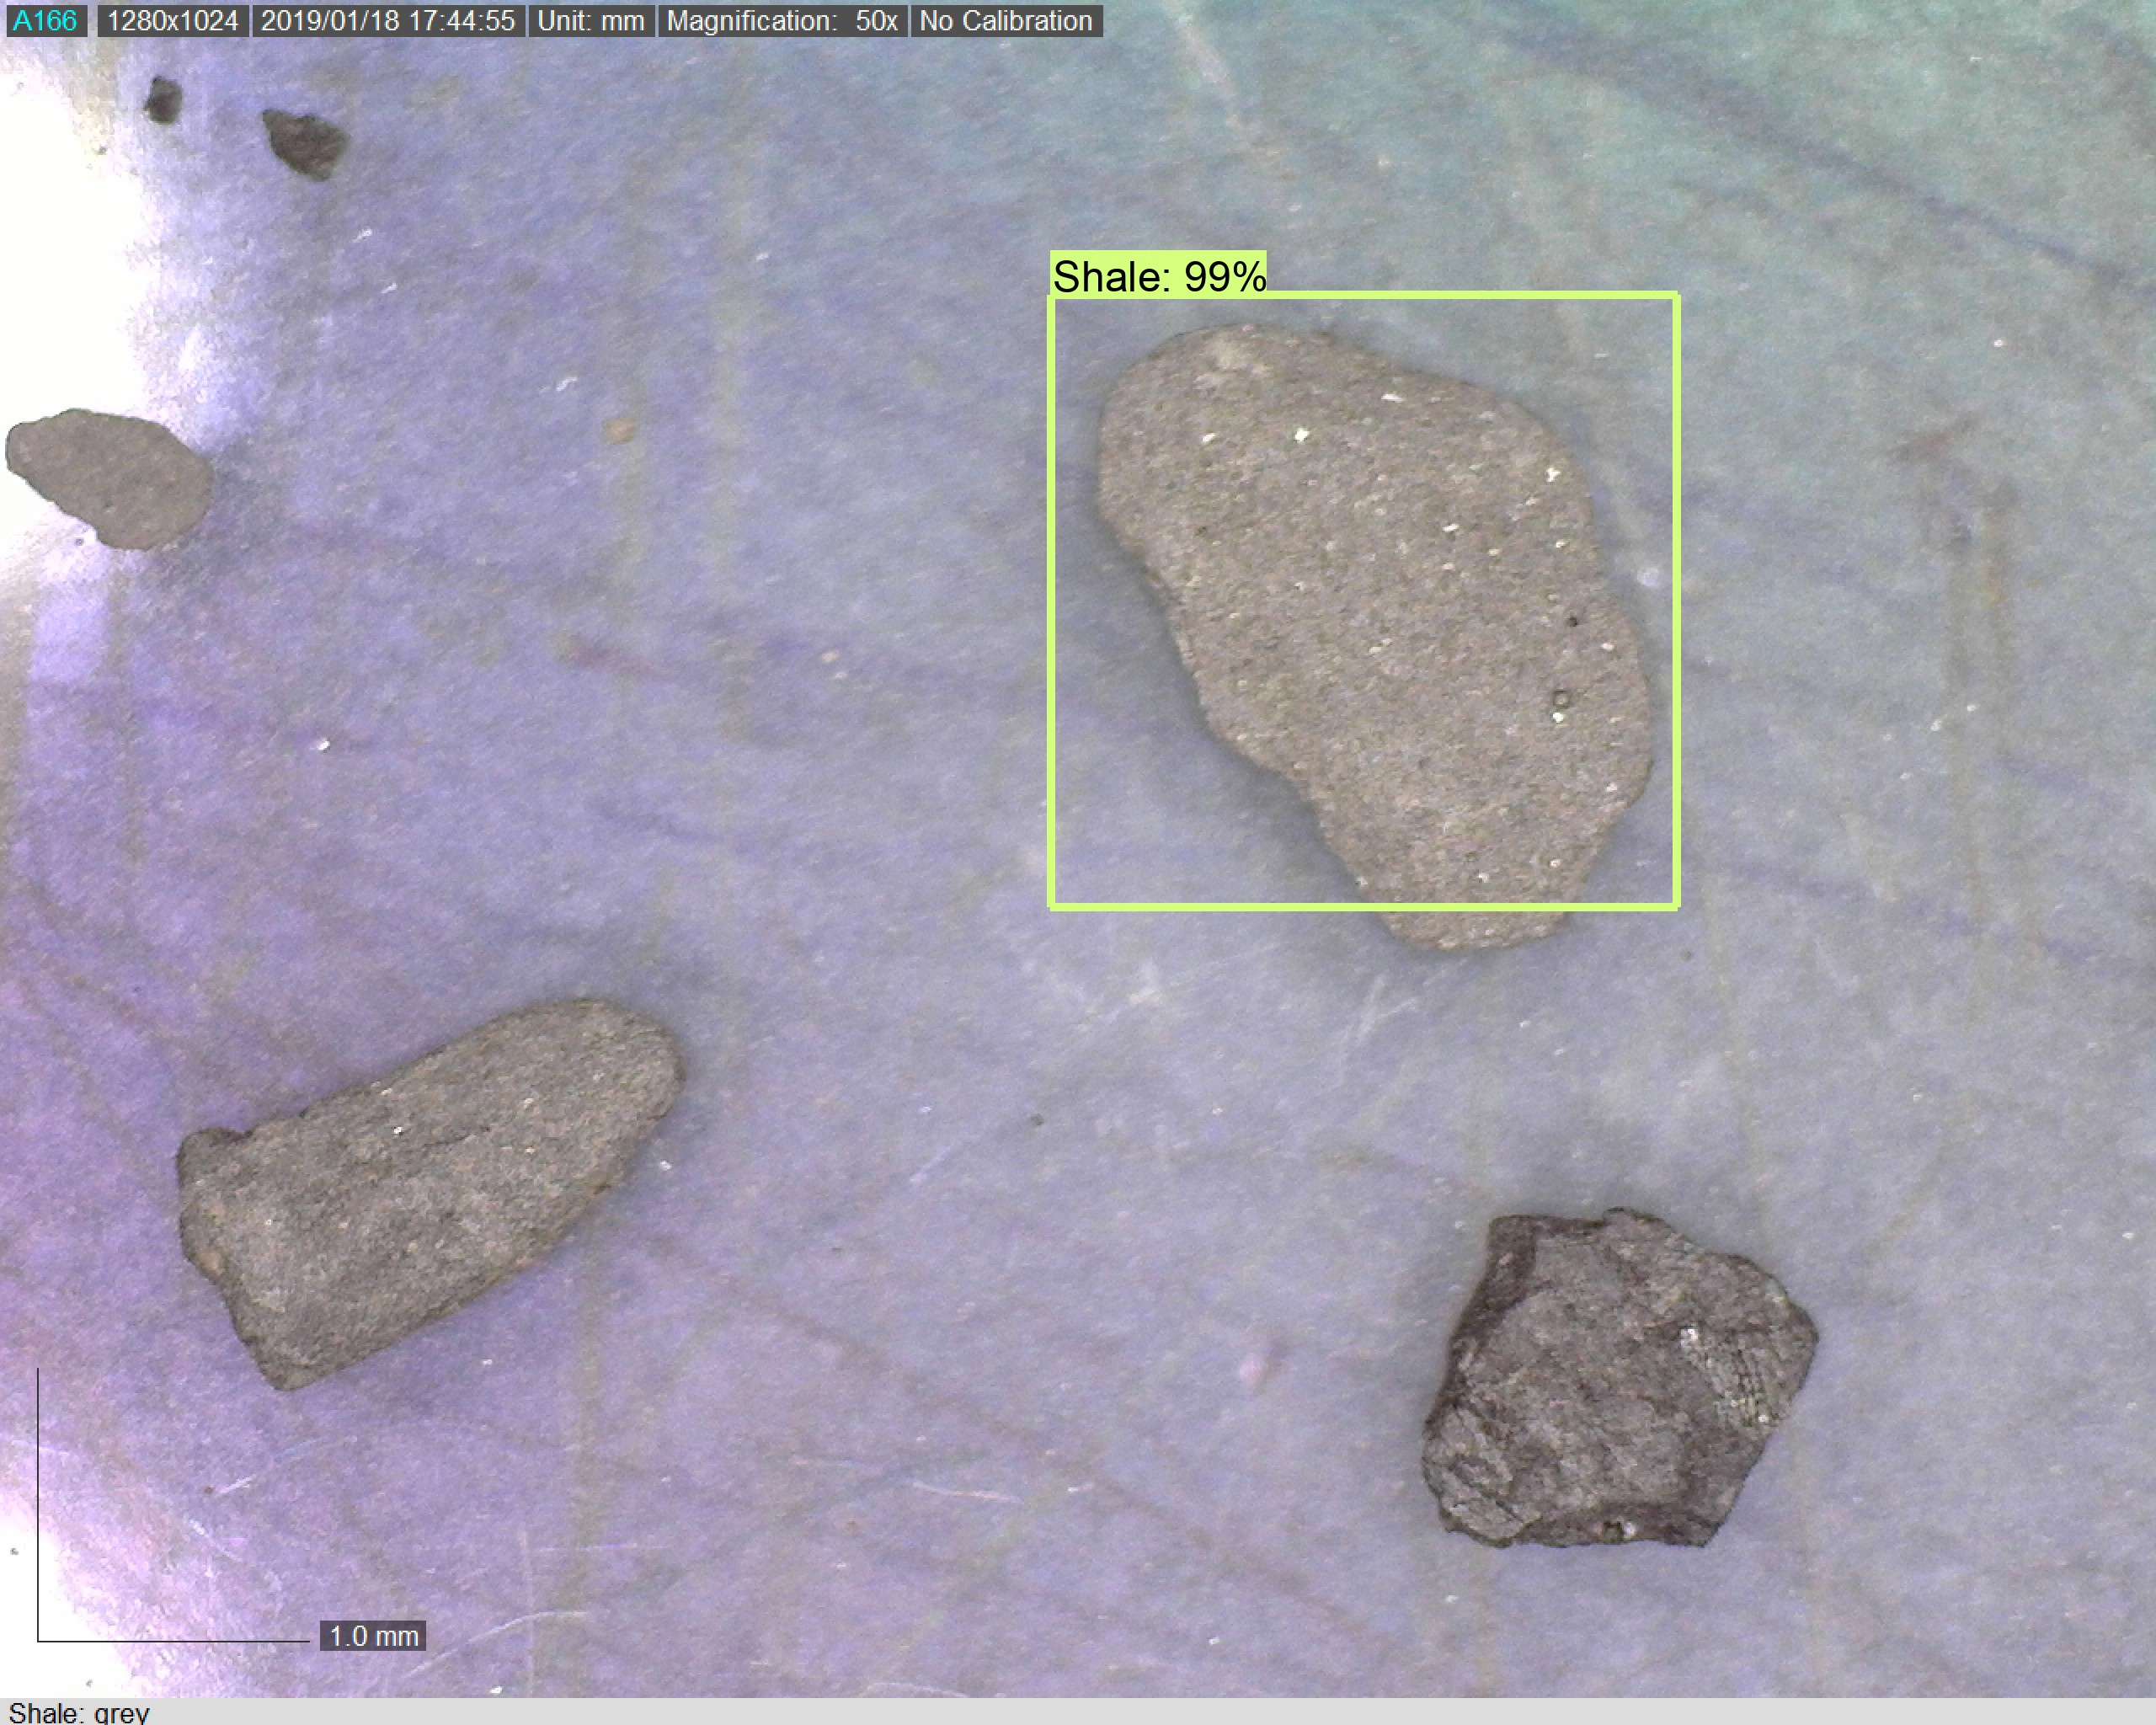Shale: (1079, 310, 1667, 975)
